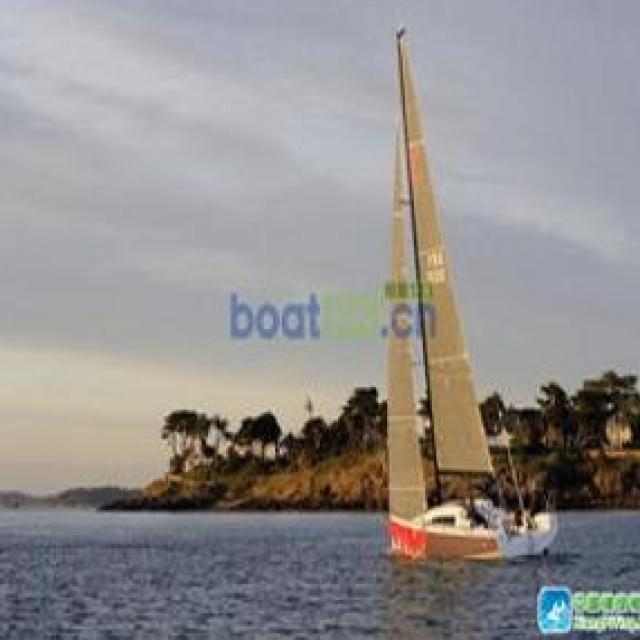sailboat: (354, 39, 580, 568)
